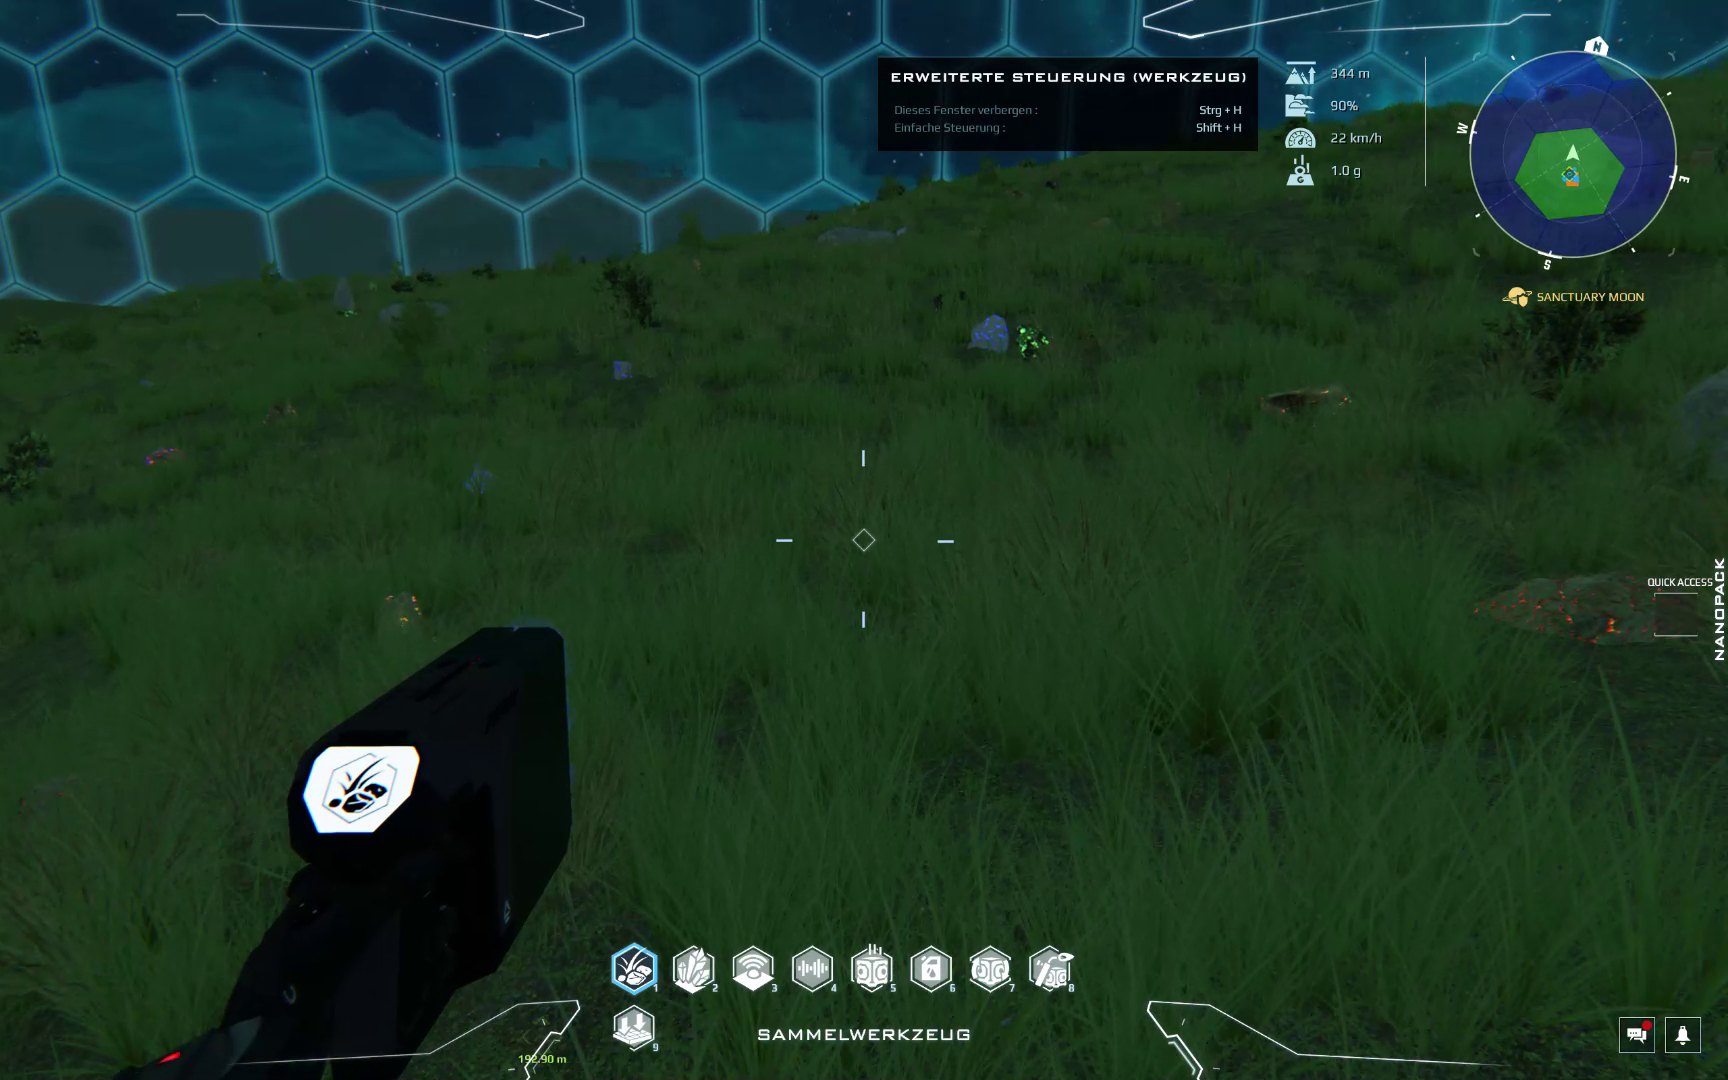Ore: (1463, 570, 1722, 661), (1254, 383, 1360, 429), (369, 589, 435, 643), (965, 314, 1011, 357), (1011, 322, 1056, 362), (258, 394, 300, 426), (144, 447, 184, 467)
